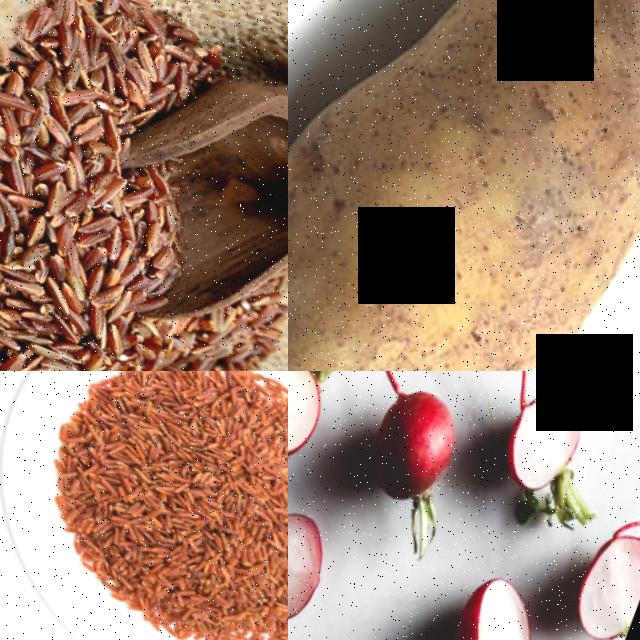potato: (288, 0, 640, 371)
radishes: (331, 371, 481, 542), (476, 371, 608, 515), (545, 476, 640, 640), (420, 550, 555, 640), (288, 371, 364, 483), (288, 489, 343, 636)
red rice: (0, 371, 288, 640), (0, 102, 198, 371)
